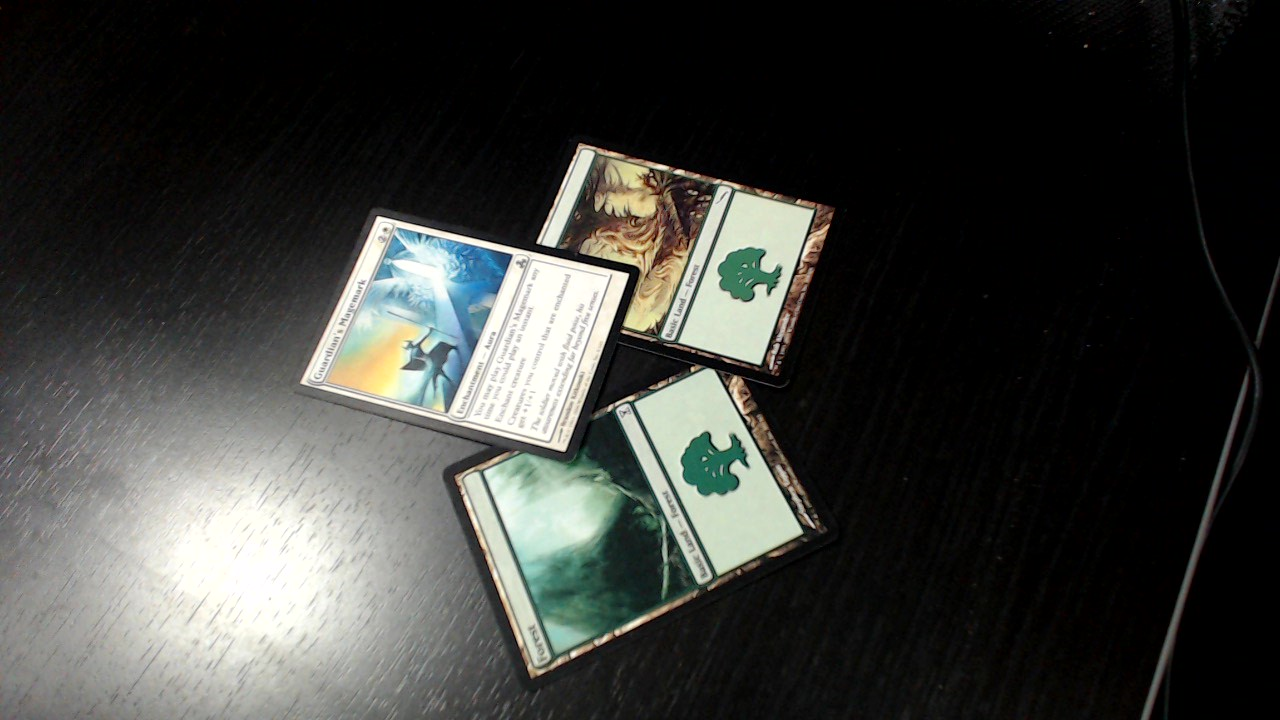MTG Card: (434, 352, 838, 693), (280, 198, 643, 465), (519, 136, 840, 389)
